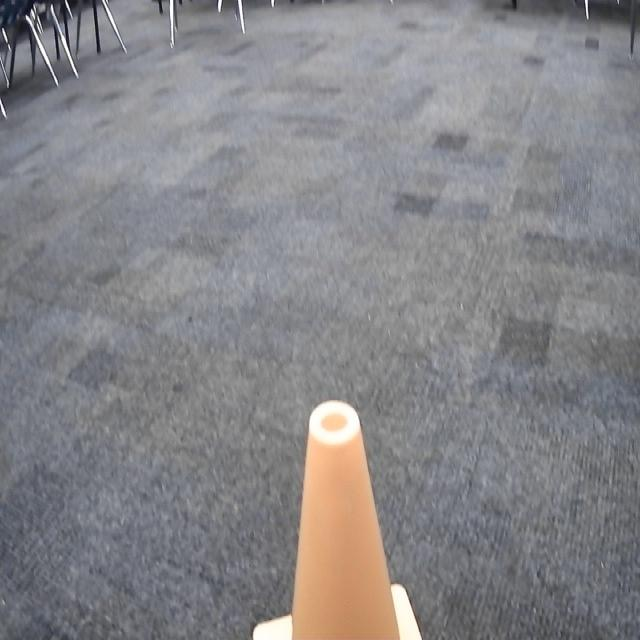cone: (250, 398, 425, 640)
